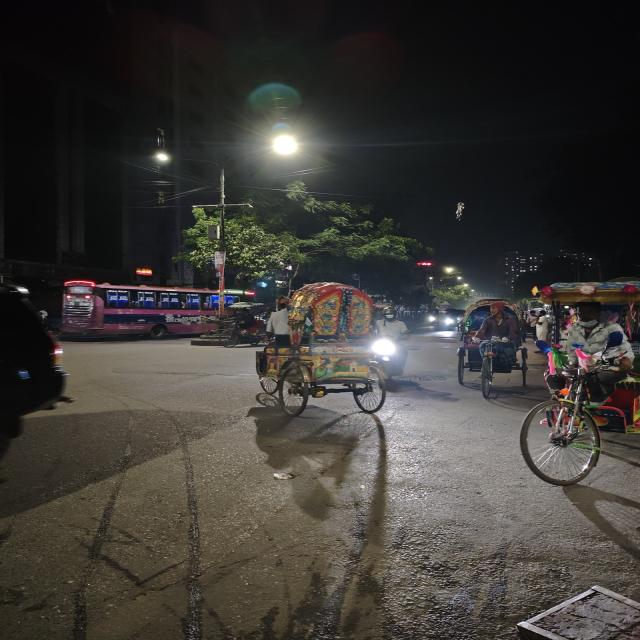bus: (55, 280, 270, 346)
rickshaw: (521, 291, 640, 497), (252, 276, 409, 425), (452, 299, 536, 401)
